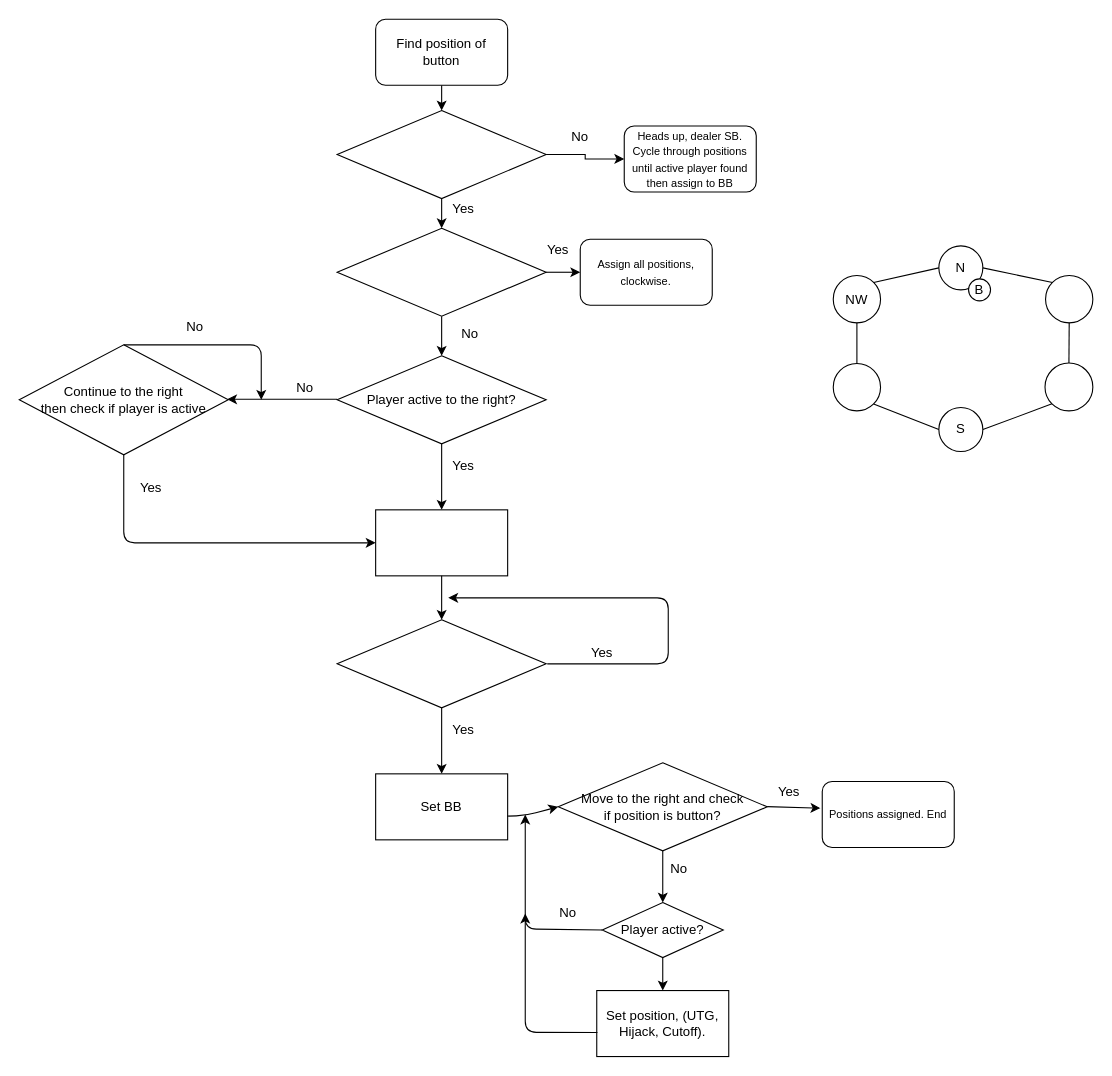
The diagram is 1112 pixels wide and 1076 high, and some of its shapes have lost their labels. Here are the shapes that lost their labels. From the top down, the centre of each, then its label:
At [441,154]: "Find # of active players. Greater than 2?".
At [441,271]: "Active players = 6?".
At [1068,298]: "NE".
At [856,386]: "SW".
At [1068,386]: "SE".
At [441,542]: "Set SB".
At [441,663]: "Move to the right and check player active?".
